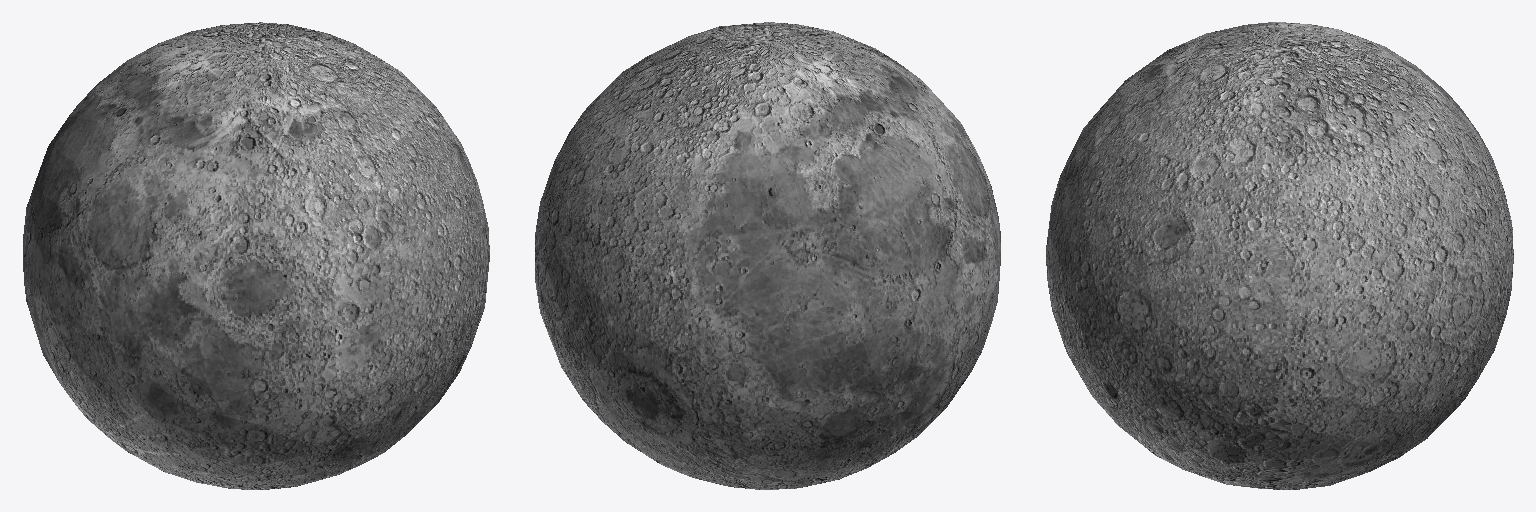
3 views of the same model, side by side, from view 1: azimuth 30°, elevation 25°; view 2: azimuth 150°, elevation 25°; view 3: azimuth 270°, elevation 25° (orthographic).
Visible parts, largest first — view 1: Globe; view 2: Globe; view 3: Globe.
Boxes of the visible parts, x1=… form: Globe: x1=23, y1=22, x2=489, y2=489; Globe: x1=535, y1=22, x2=1000, y2=489; Globe: x1=1046, y1=22, x2=1513, y2=489.
Size of the model in its own units: 2 by 2 by 2.
Materials: 1 (1 with a texture image).